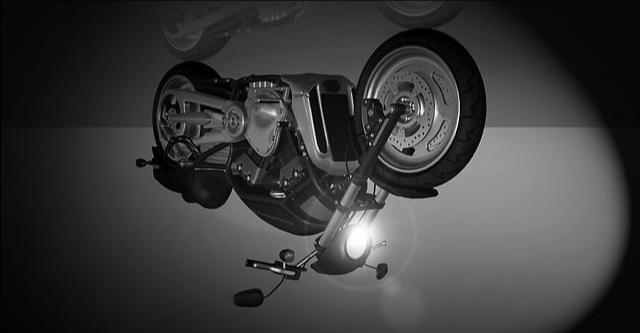Non_Gorille: (117, 18, 498, 323)
